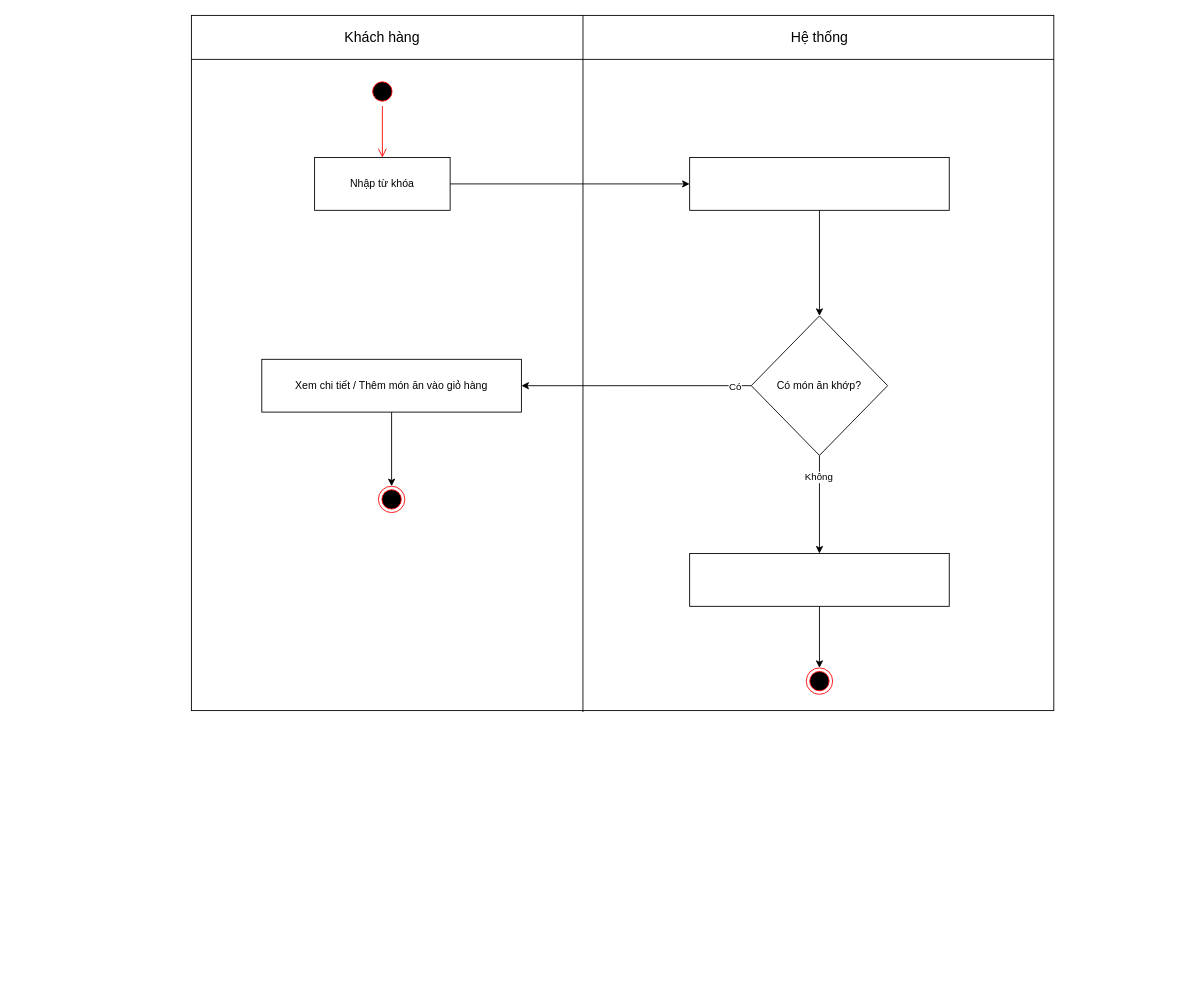
Image size: 1178x999. Some labels were removed from this diagram. Each missing label, with the centre of its shape:
Hiện thông báo "Không có món ăn phù hợp": point (819, 579)
Tìm kiếm món ăn trong CSDL: point (819, 183)
